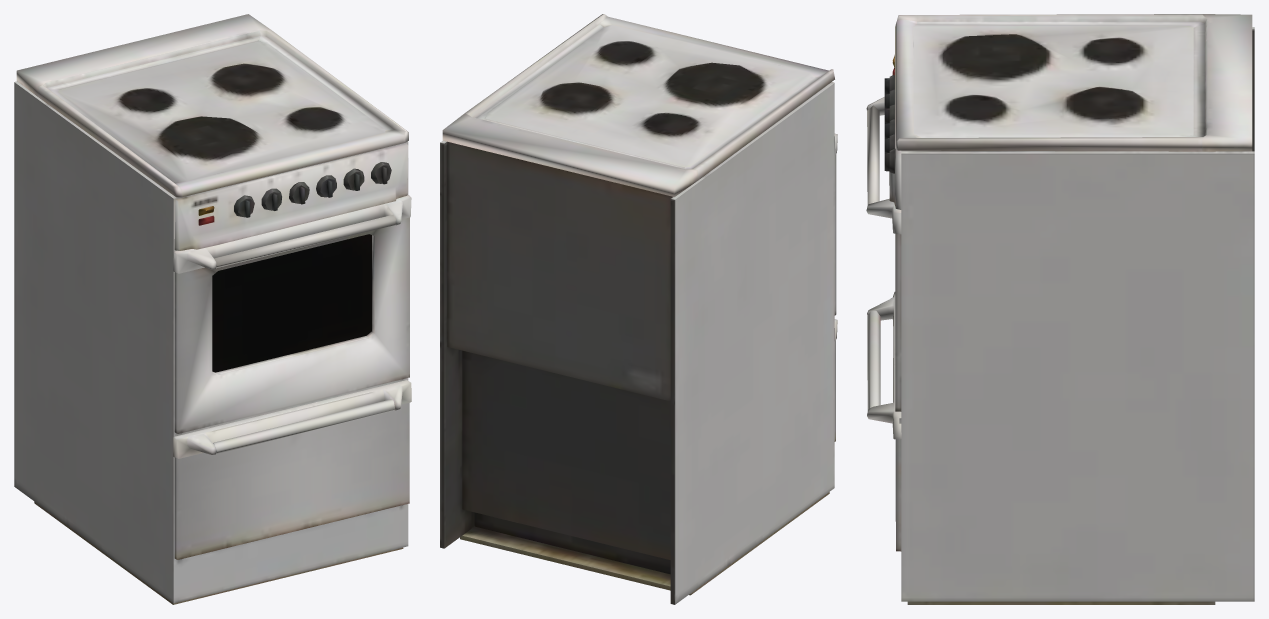
The model's file is electric_stove.glb.
3 views of the same model, side by side, from view 1: azimuth 30°, elevation 25°; view 2: azimuth 150°, elevation 25°; view 3: azimuth 270°, elevation 25° (orthographic). The views are drawn at different scales.
Visible parts, largest first — view 1: stovetop, door_top; view 2: stovetop; view 3: stovetop.
Part boxes in pixels (<box>): stovetop: <box>14,14,411,604</box>; door_top: <box>212,234,371,372</box>; stovetop: <box>440,14,837,604</box>; stovetop: <box>866,14,1254,604</box>.
Size of the model in its own units: 0.5026 by 0.8578 by 0.6473.
2 materials, 2 textured.
